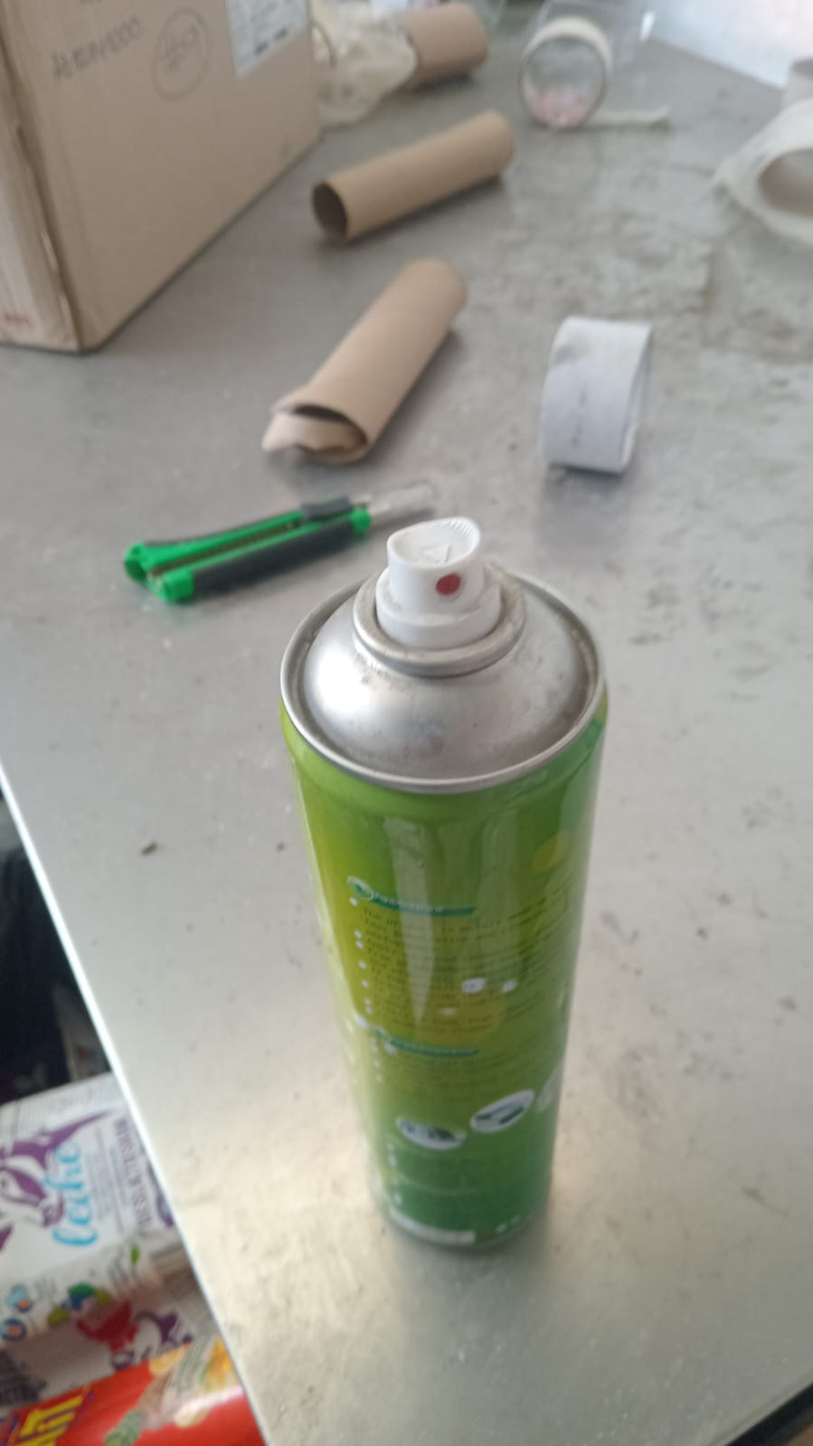Metal: (280, 583, 607, 1254)
